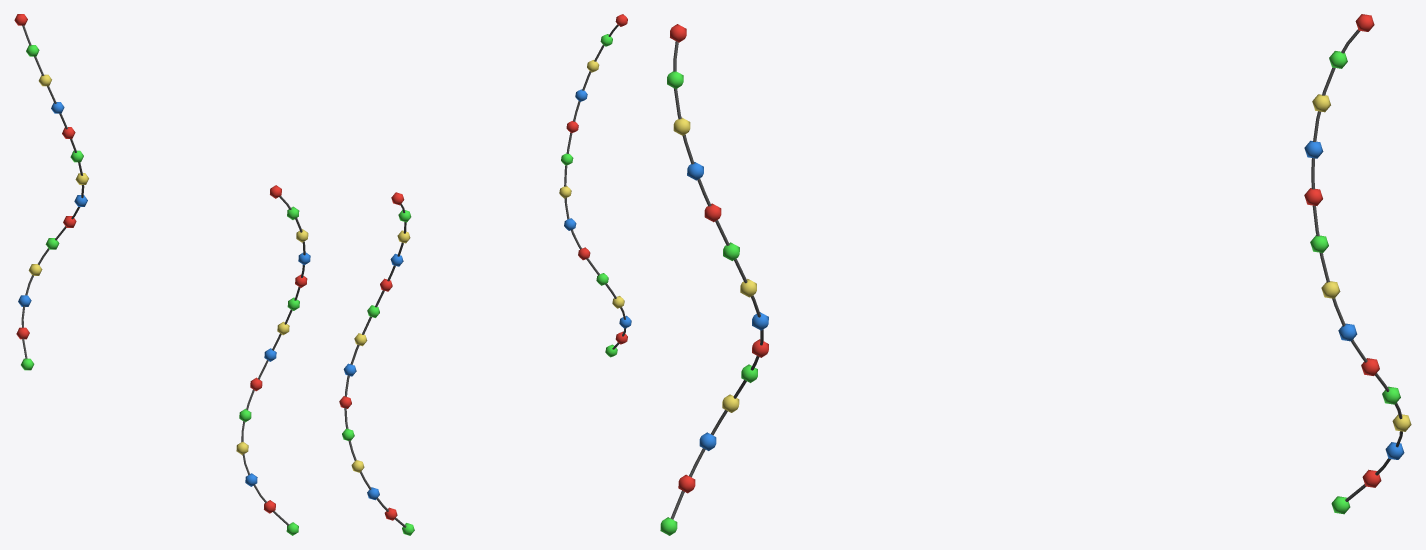
The model's file is column_lights.glb.
3 renders of one model, left to right at view 1: azimuth 30°, elevation 25°; view 2: azimuth 150°, elevation 25°; view 3: azimuth 270°, elevation 25°, orthographic. The views are drawn at different scales.
Parts seen in each view (by area): view 1: BezierCurve.001; view 2: BezierCurve.001; view 3: BezierCurve.001.
Boxes of the visible parts, x1,y1,x2,y2 form: BezierCurve.001: (14, 14, 310, 535); BezierCurve.001: (339, 14, 631, 535); BezierCurve.001: (660, 14, 1411, 535).
Bounding box in the file's own units: 0.6694 × 3.31 × 4.51.
